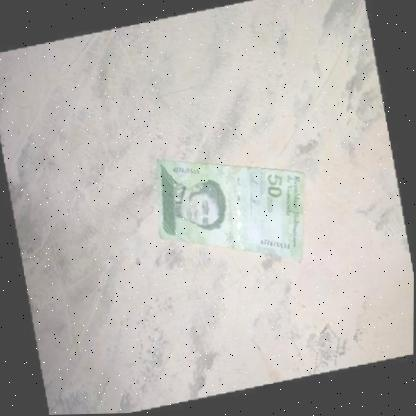fifty-front-vef: (152, 144, 314, 280)
